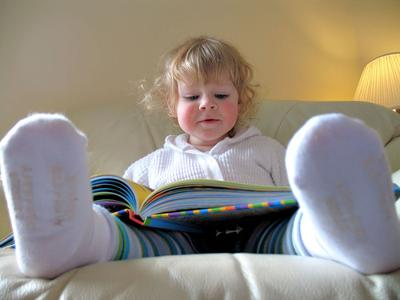person: (1, 36, 400, 281)
